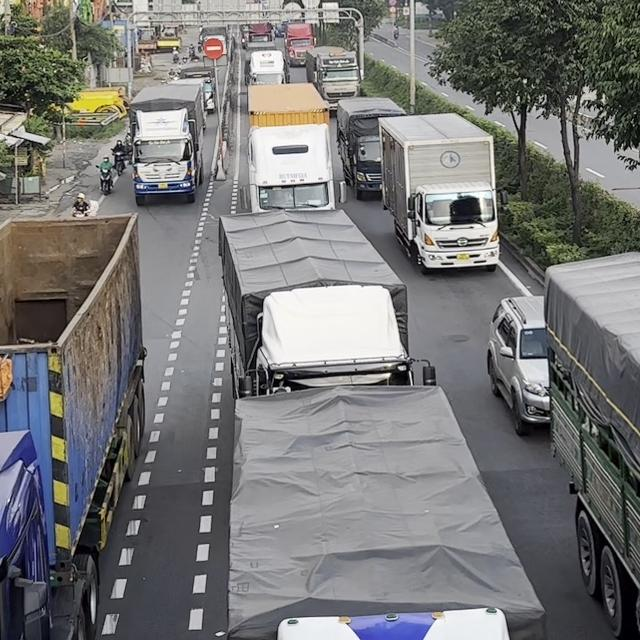bus: (542, 249, 639, 639)
car: (486, 294, 551, 435)
motorcycle: (96, 164, 114, 195), (111, 150, 126, 176), (71, 202, 89, 217)
truck: (226, 381, 547, 640), (0, 211, 147, 639), (216, 207, 420, 398), (378, 111, 504, 273), (242, 82, 347, 212), (127, 80, 207, 205), (336, 96, 407, 200), (305, 45, 361, 105), (169, 66, 215, 113), (245, 49, 287, 85), (284, 22, 315, 66), (241, 22, 275, 49)
